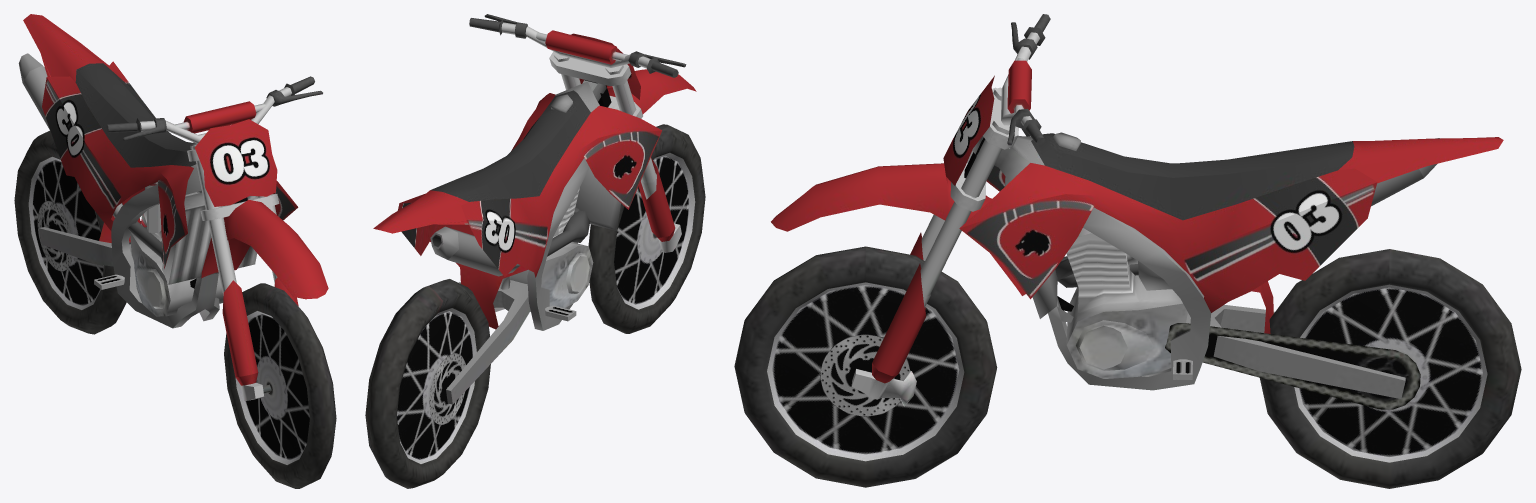
The model's file is dirtbike_red.glb.
3 views of the same model, side by side, from view 1: azimuth 30°, elevation 25°; view 2: azimuth 150°, elevation 25°; view 3: azimuth 270°, elevation 25° (orthographic). The views are drawn at different scales.
Parts seen in each view (by area): view 1: body, wheel_f, wheel_r; view 2: body, wheel_r, wheel_f; view 3: body, wheel_f, wheel_r.
Part boxes in pixels (x1,y1,x2,y2): body: (18, 14, 328, 400); wheel_f: (224, 283, 336, 488); wheel_r: (14, 130, 130, 334); body: (373, 14, 696, 404); wheel_r: (365, 279, 490, 488); wheel_f: (588, 124, 705, 333); body: (771, 14, 1503, 409); wheel_f: (734, 246, 997, 487); wheel_r: (1260, 249, 1521, 488).
Size of the model in its own units: 0.7842 by 1.21 by 2.09.
Materials: 1 (1 with a texture image).
